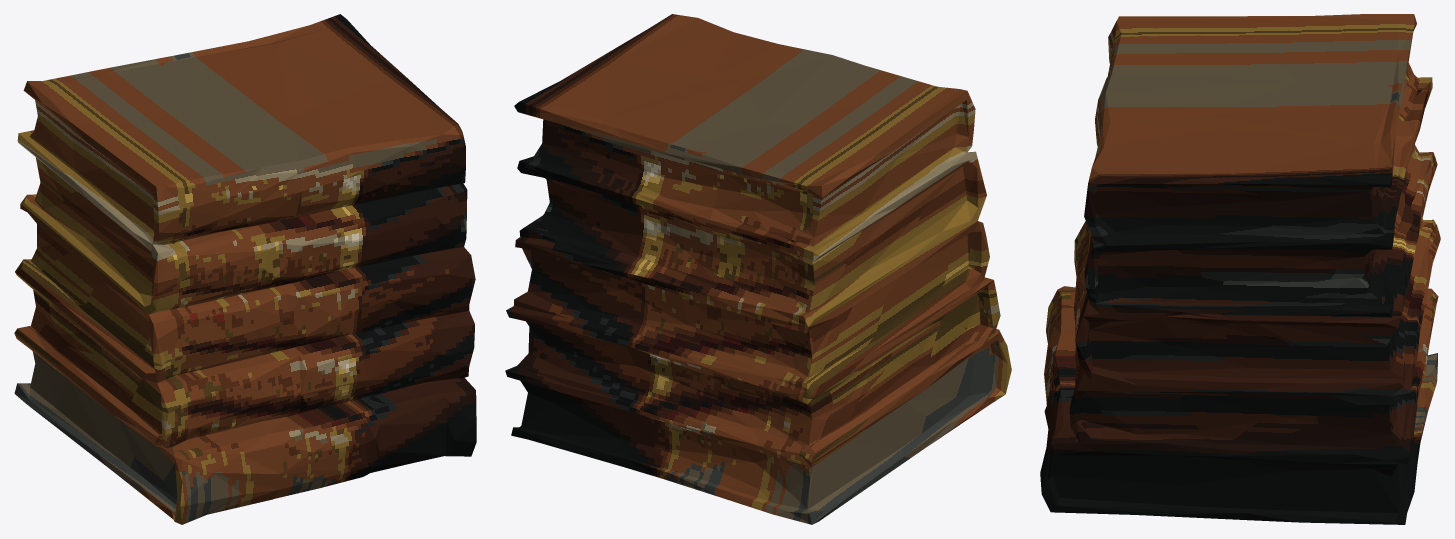
The model's file is books.glb.
3 renders of one model, left to right at view 1: azimuth 30°, elevation 25°; view 2: azimuth 150°, elevation 25°; view 3: azimuth 270°, elevation 25°, orthographic. The views are drawn at different scales.
Parts seen in each view (by area): view 1: books; view 2: books; view 3: books.
Boxes of the visible parts, <box> form: books: <box>14,14,476,524</box>; books: <box>505,14,1011,524</box>; books: <box>1040,14,1440,524</box>.
Size of the model in its own units: 0.4439 by 0.42 by 0.4309.
Materials: 1 (1 with a texture image).
